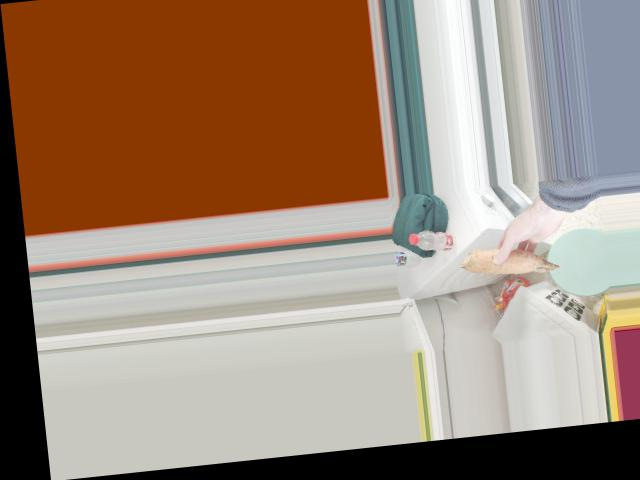sweet_potato: (466, 242, 562, 279)
